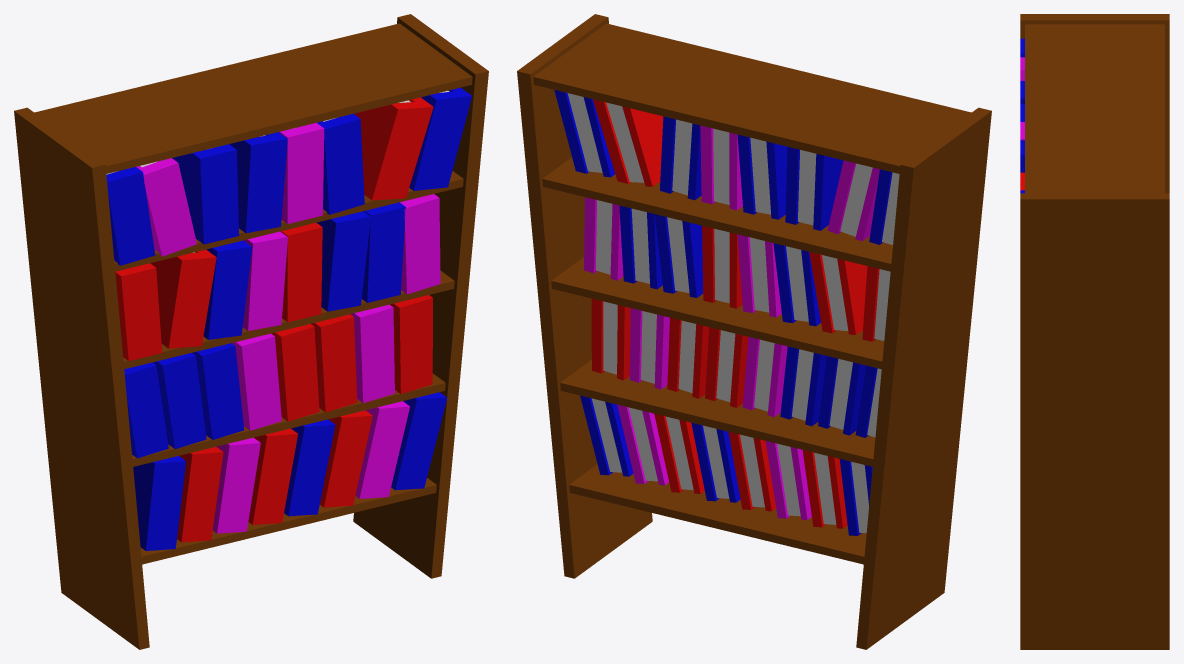
Rendered from biblioteca.FBX.
3 views of the same model, side by side, from view 1: azimuth 30°, elevation 25°; view 2: azimuth 150°, elevation 25°; view 3: azimuth 270°, elevation 25° (orthographic). The views are drawn at different scales.
Parts seen in each view (by area): view 1: pCube1, pCube2, pCube13, pCube9, pCube21, pCube10, pCube17, pCube38, pCube14, pCube11, pCube12, pCube22 (+26 smaller); view 2: pCube1, pCube2, pCube3, pCube4, pCube5, pCube6, pCube13, pCube9, pCube21, pCube10, pCube17, pCube14 (+26 smaller); view 3: pCube1, pCube2.
Part boxes in pixels (bbox=[...]): pCube1: bbox=[14, 14, 488, 649]; pCube2: bbox=[34, 23, 472, 173]; pCube13: bbox=[354, 97, 433, 200]; pCube9: bbox=[172, 144, 239, 244]; pCube21: bbox=[150, 249, 216, 348]; pCube10: bbox=[229, 132, 287, 233]; pCube17: bbox=[317, 211, 370, 311]; pCube38: bbox=[133, 456, 186, 550]; pCube14: bbox=[409, 87, 471, 190]; pCube11: bbox=[279, 123, 324, 223]; pCube12: bbox=[317, 114, 364, 214]; pCube22: bbox=[115, 263, 162, 360]; pCube1: bbox=[517, 14, 991, 649]; pCube2: bbox=[533, 23, 971, 173]; pCube3: bbox=[542, 157, 892, 271]; pCube4: bbox=[551, 257, 884, 369]; pCube5: bbox=[560, 360, 875, 466]; pCube6: bbox=[569, 464, 866, 564]; pCube13: bbox=[593, 99, 663, 186]; pCube9: bbox=[785, 146, 843, 230]; pCube21: bbox=[809, 252, 867, 334]; pCube10: bbox=[737, 134, 787, 219]; pCube17: bbox=[654, 214, 703, 297]; pCube14: bbox=[554, 90, 614, 177]; pCube1: bbox=[1020, 14, 1169, 649]; pCube2: bbox=[1025, 24, 1164, 193].
Bounding box in the file's own units: 159 × 189 × 54.31.
